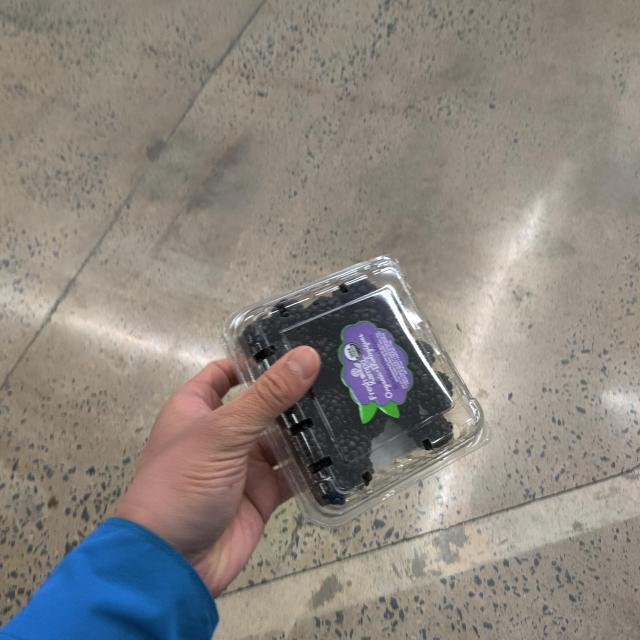Blackberries: (237, 269, 478, 518)
